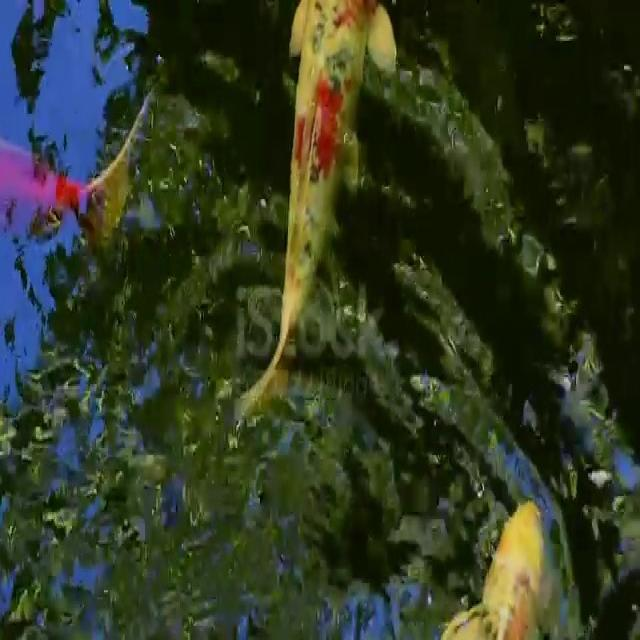fish: (278, 0, 396, 379), (441, 450, 559, 640)
